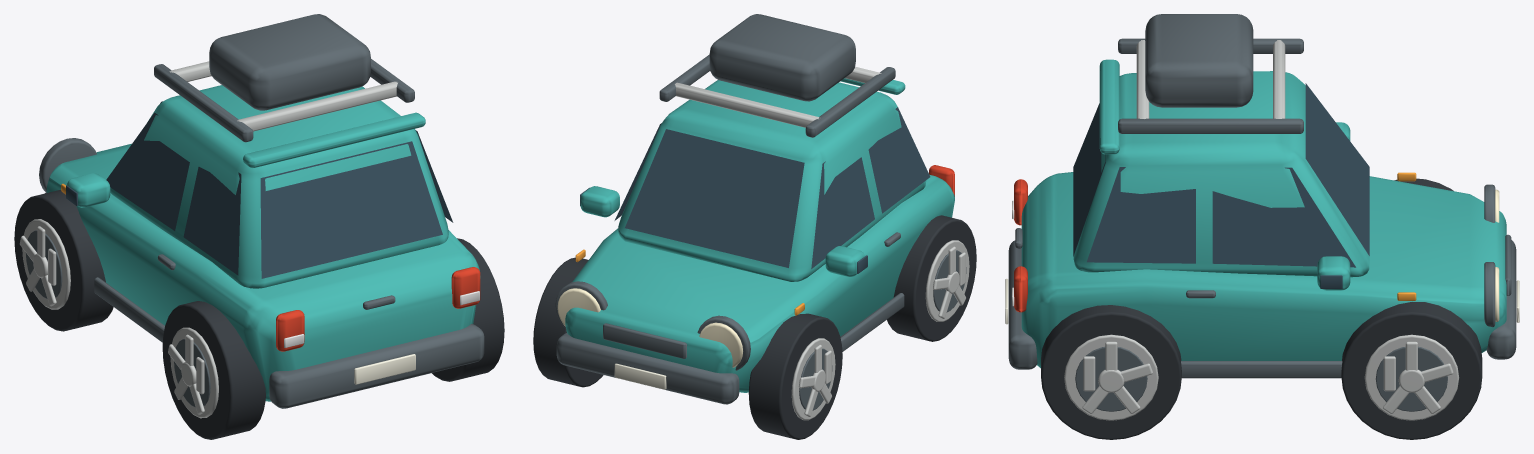
The model's file is utility_car.fbx.
3 renders of one model, left to right at view 1: azimuth 30°, elevation 25°; view 2: azimuth 150°, elevation 25°; view 3: azimuth 270°, elevation 25°, orthographic. The views are drawn at different scales.
Parts seen in each view (by area): view 1: Body, Tyre.001, Tyre, Tyre.003, AlloyRim, AlloyRim.001, DarkInset.001, DarkInset; view 2: Body, Tyre, Tyre.001, Tyre.002, AlloyRim, AlloyRim.001, DarkInset, DarkInset.001; view 3: Body, Tyre.002, Tyre.003, AlloyRim.003, AlloyRim.002, DarkInset.003, DarkInset.002, Hub.002, Hub.003.
Boxes of the visible parts, x1,y1,x2,y2 form: Body: (39,14,484,408); Tyre.001: (162,301,265,439); Tyre: (14,190,113,331); Tyre.003: (432,238,504,381); AlloyRim: (22,219,70,309); AlloyRim.001: (170,327,218,418); DarkInset.001: (174,339,210,407); DarkInset: (25,230,62,298); Body: (555,14,954,404); Tyre: (748,313,842,439); Tyre.001: (887,215,976,341); Tyre.002: (533,257,603,387); AlloyRim: (791,338,835,420); AlloyRim.001: (925,240,969,321); DarkInset: (799,348,832,410); DarkInset.001: (933,250,966,312); Body: (1005,14,1519,378); Tyre.002: (1341,302,1482,439); Tyre.003: (1041,305,1181,439); AlloyRim.003: (1064,334,1158,420); AlloyRim.002: (1364,334,1459,420); DarkInset.003: (1075,347,1147,411); DarkInset.002: (1375,346,1447,411); Hub.002: (1398,369,1424,392); Hub.003: (1098,370,1124,392).
Bounding box in the file's own units: 217 × 223 × 310.
